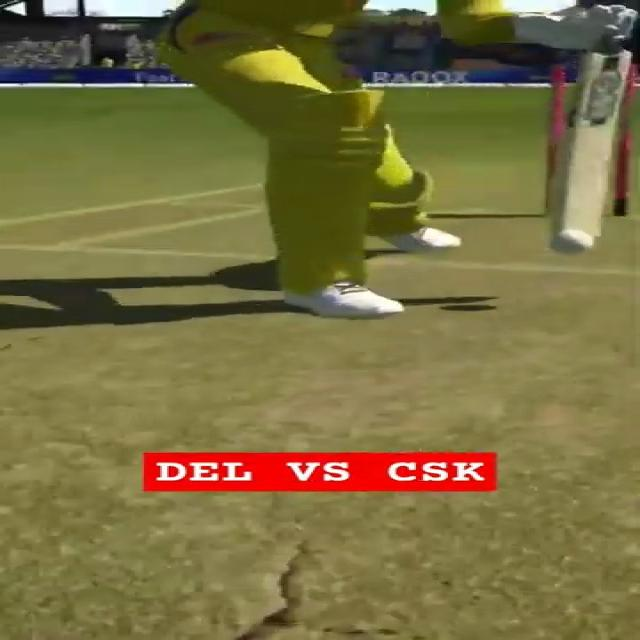ball: (548, 229, 594, 256)
